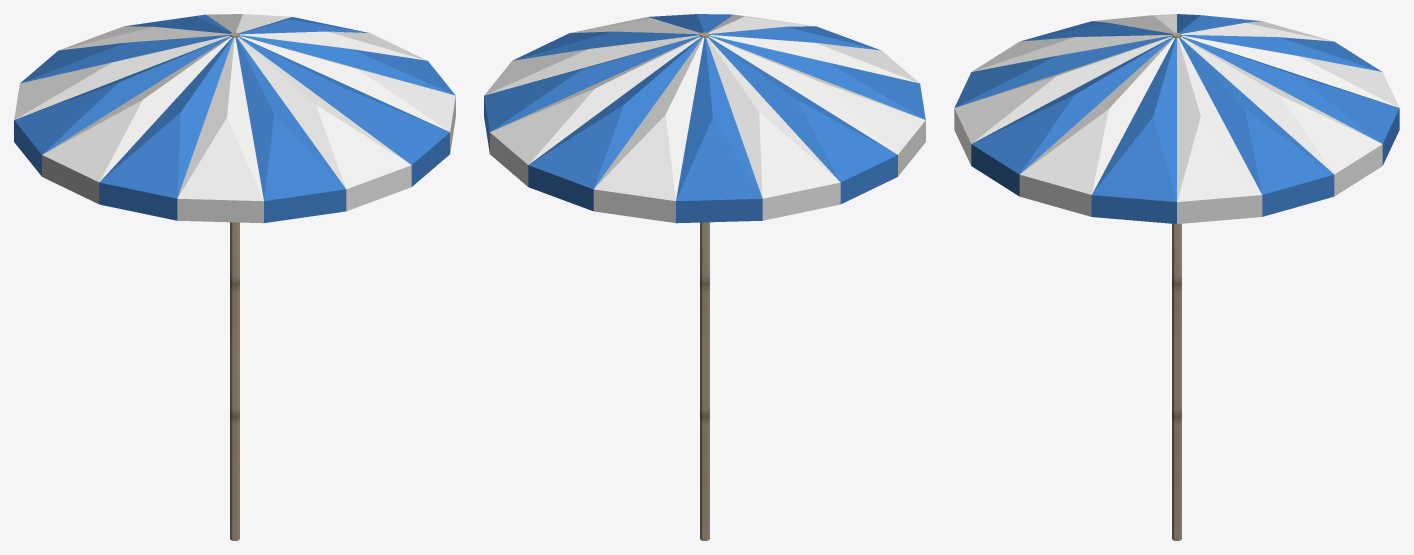
Rendered from beach-umbrella.glb.
3 renders of one model, left to right at view 1: azimuth 30°, elevation 25°; view 2: azimuth 150°, elevation 25°; view 3: azimuth 270°, elevation 25°, orthographic.
Parts seen in each view (by area): view 1: beach_umbrella; view 2: beach_umbrella; view 3: beach_umbrella.
Boxes of the visible parts, bbox=[...] form: beach_umbrella: bbox=[14, 14, 455, 540]; beach_umbrella: bbox=[484, 14, 925, 540]; beach_umbrella: bbox=[954, 14, 1399, 540].
Bounding box in the file's own units: 2.2 × 2.75 × 2.2.
Materials: 1 (1 with a texture image).
